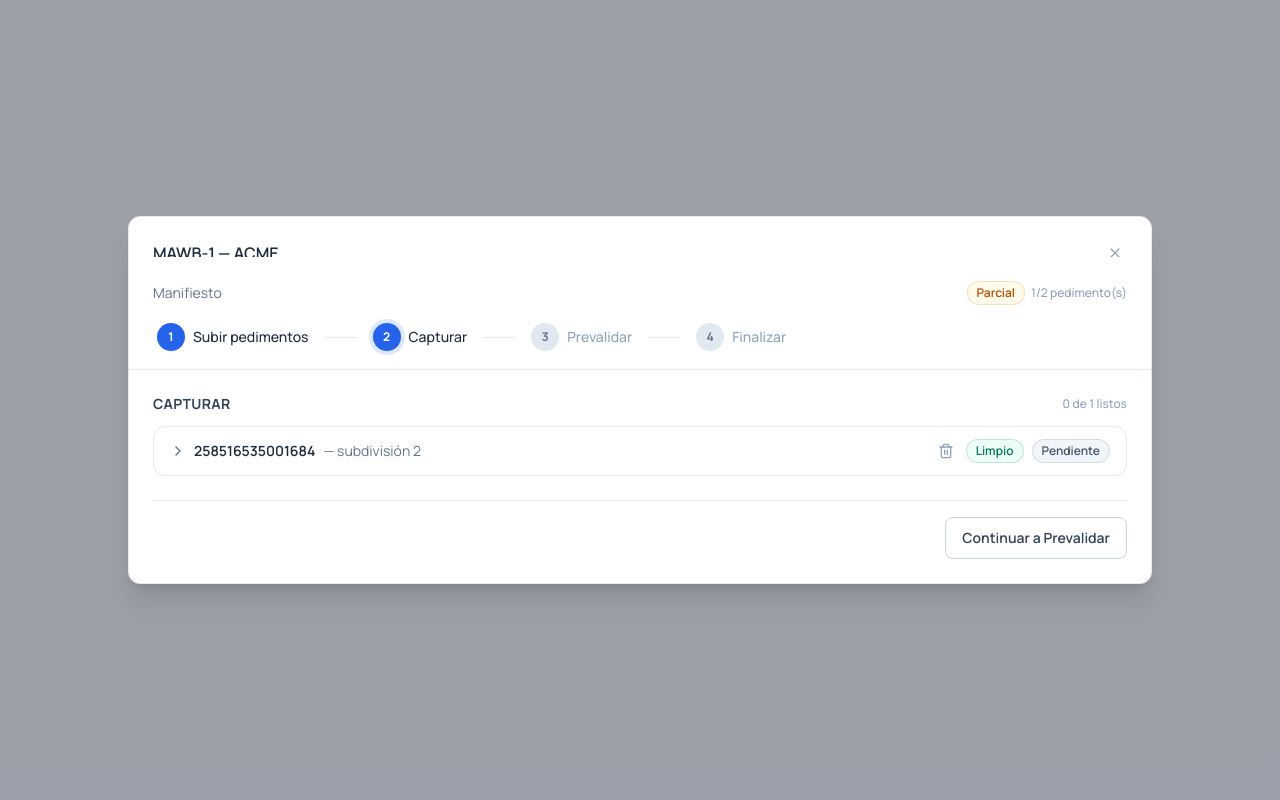
CaptureWorkspace › shows an error message when the delete request fails and resets the confirm state
Check: the heading "MAWB-1 — ACME" is shown, box [153, 241, 279, 265]
Click the button named "Eliminar pedimento" at (946, 451), box [934, 439, 958, 463]
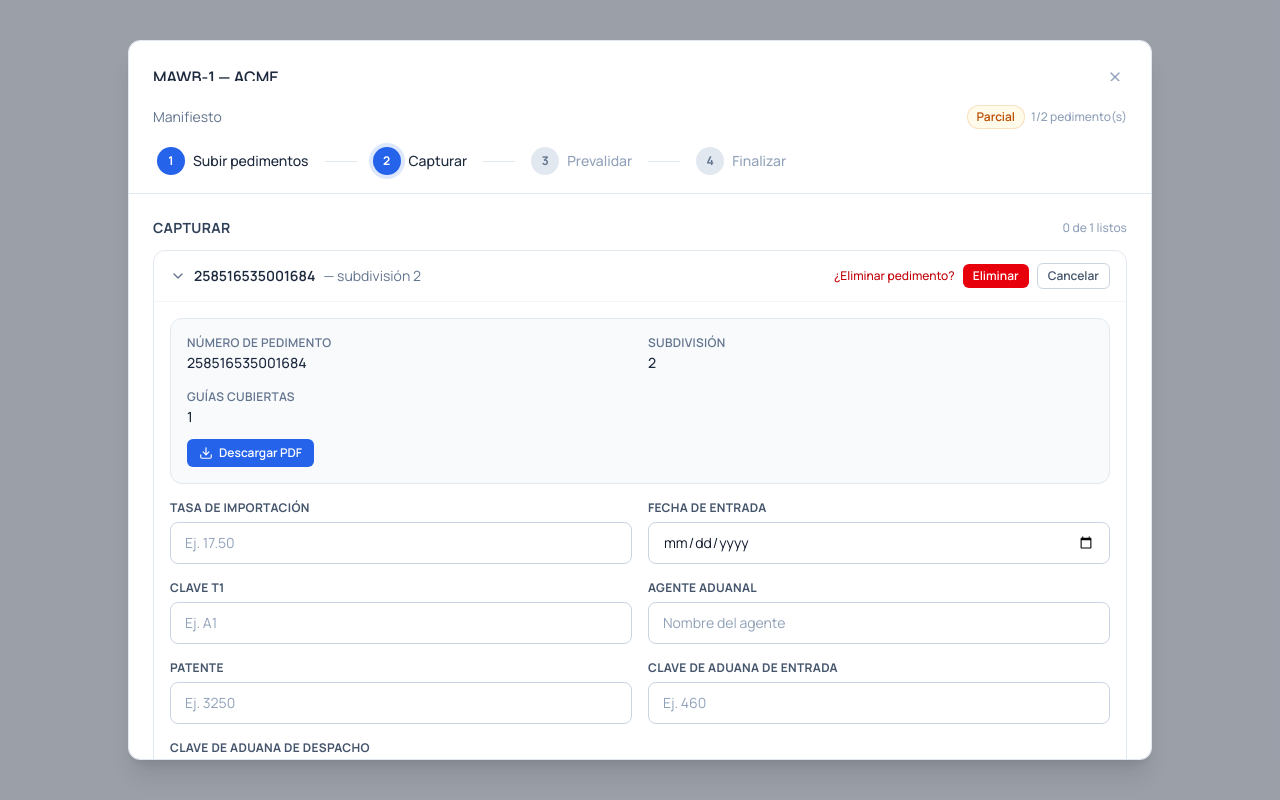
Click the button "Eliminar" at (996, 276), box [963, 264, 1029, 288]
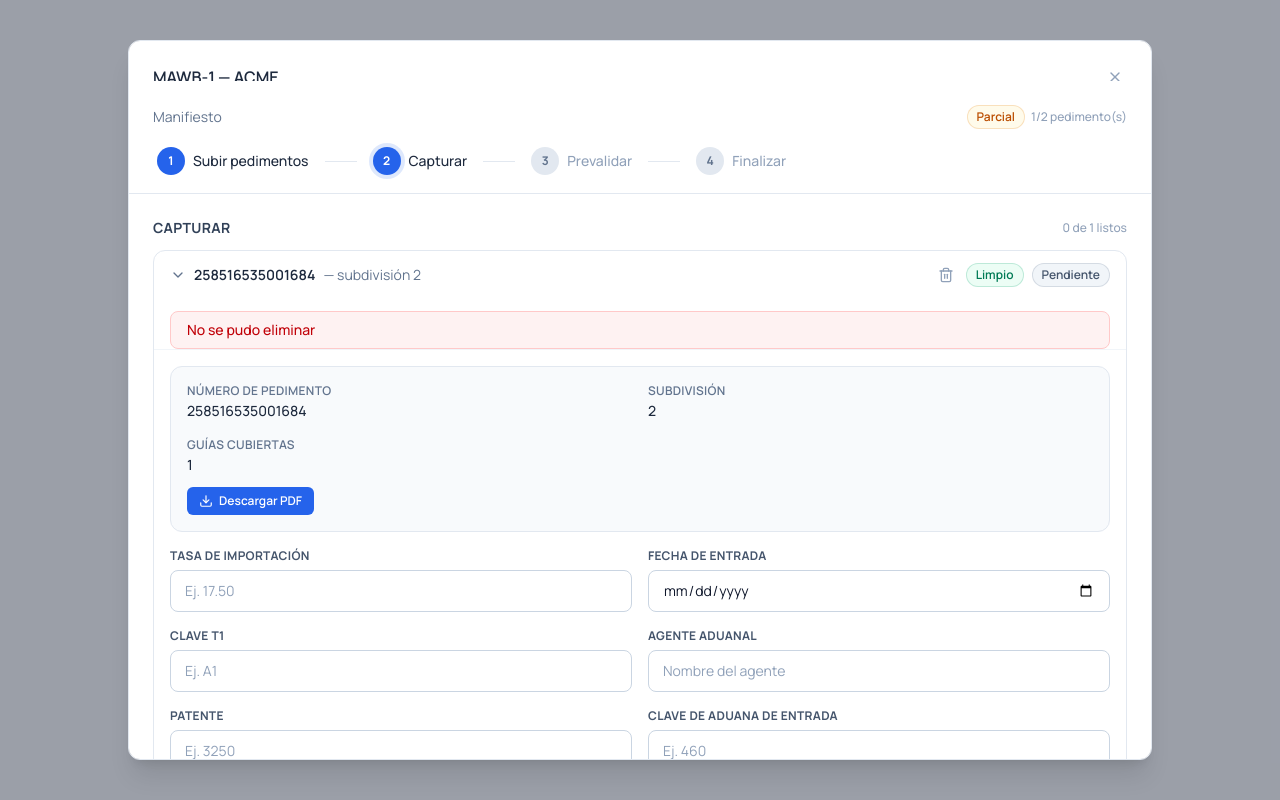
Check: the text "No se pudo eliminar" is shown, box [170, 311, 1110, 349]
Check: the text "¿Eliminar pedimento?" is gone
